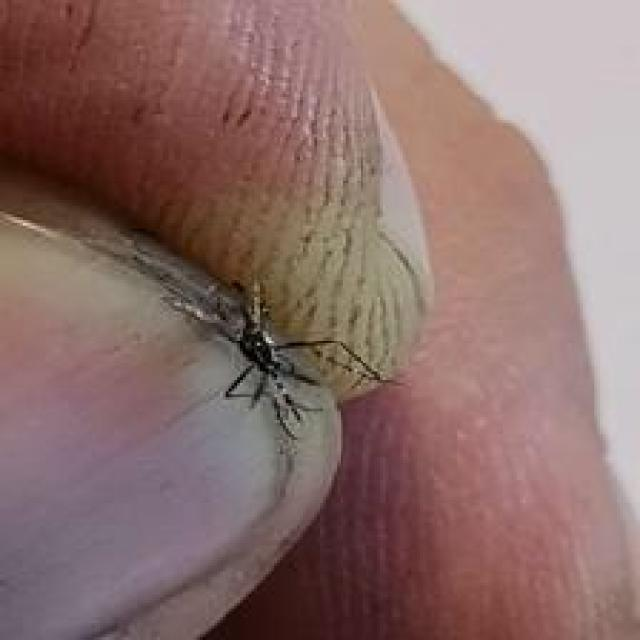Aedes albopictus: (0, 159, 400, 464)
